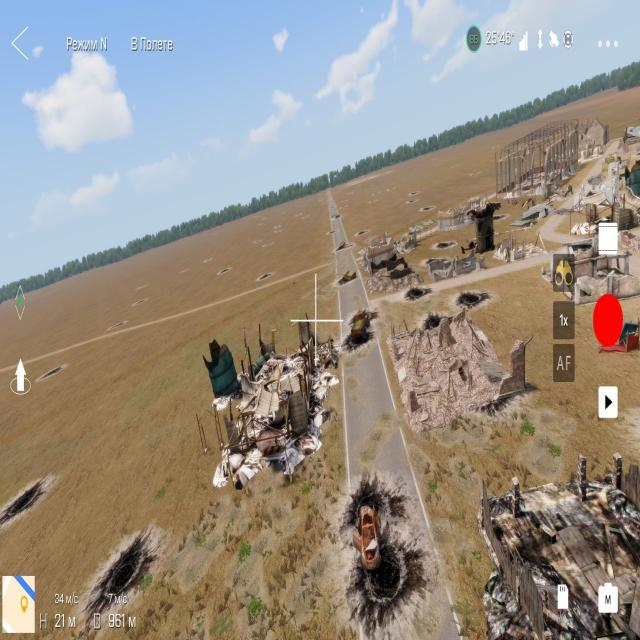fortification: (477, 464, 640, 640), (388, 305, 536, 432), (197, 324, 326, 457), (538, 230, 640, 304), (490, 122, 580, 205), (355, 228, 414, 304), (563, 189, 640, 243), (426, 243, 487, 285), (568, 114, 617, 166), (592, 152, 638, 203), (463, 202, 508, 254), (430, 193, 477, 237), (493, 230, 547, 266), (390, 218, 424, 261)
vehicle: (350, 490, 394, 580), (348, 302, 378, 345), (339, 262, 360, 298), (335, 237, 350, 260)
